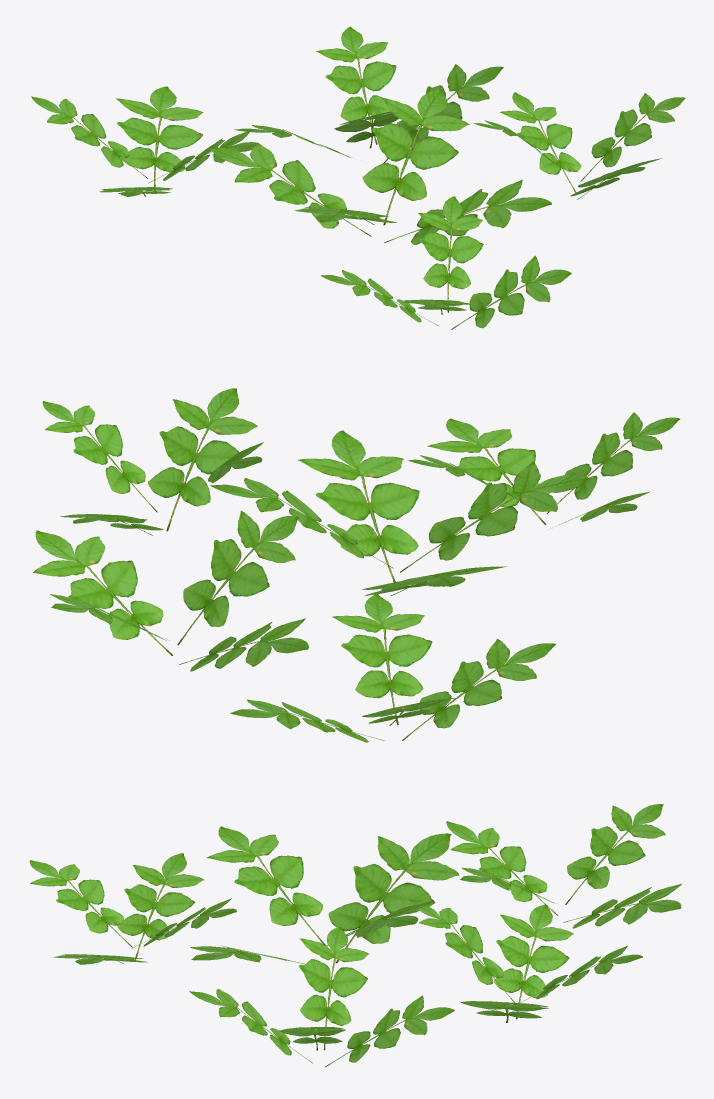
The model's file is GroundFoliage1-2.fbx.
The picture shows the model from 3 angles, top to bottom: view 1: azimuth 30°, elevation 25°; view 2: azimuth 150°, elevation 25°; view 3: azimuth 270°, elevation 25°; orthographic projection. The views are drawn at different scales.
Parts seen in each view (by area): view 1: GroundFoliage1-2; view 2: GroundFoliage1-2; view 3: GroundFoliage1-2.
Boxes of the visible parts, left/top/right/bottom form: GroundFoliage1-2: left=31, top=26, right=685, bottom=329; GroundFoliage1-2: left=33, top=388, right=679, bottom=742; GroundFoliage1-2: left=29, top=804, right=681, bottom=1067.
Bounding box in the file's own units: 167 × 40.03 × 189.
